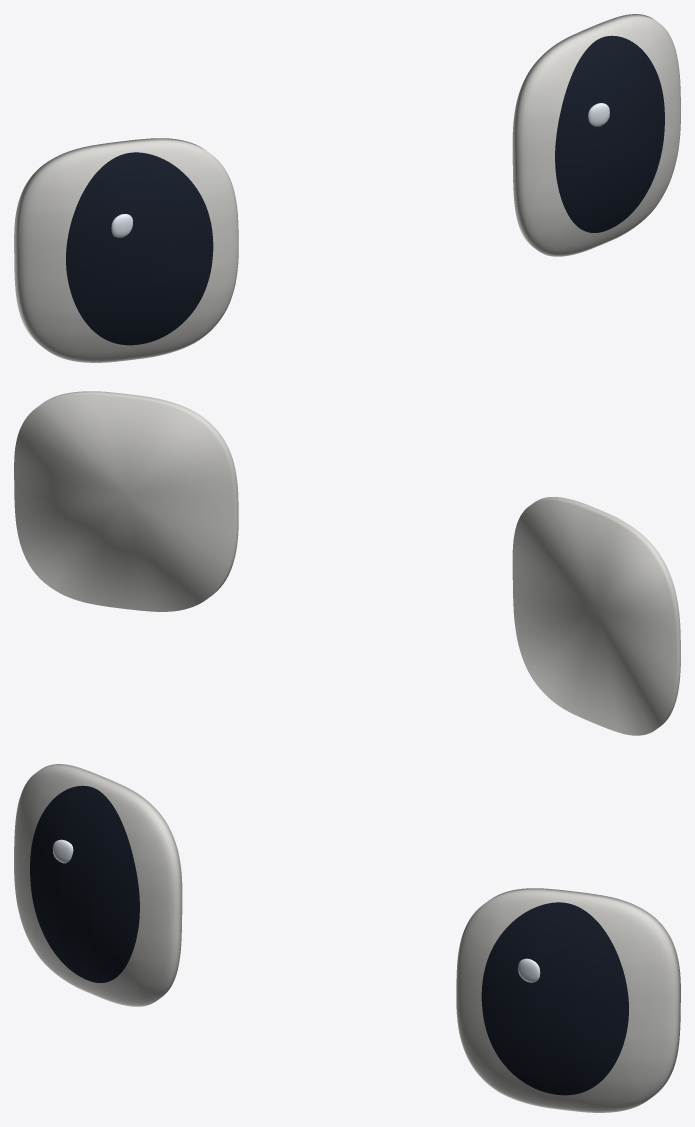
File: Feminine-eyes-square_white.glb
3 renders of one model, top to bottom at view 1: azimuth 30°, elevation 25°; view 2: azimuth 150°, elevation 25°; view 3: azimuth 330°, elevation 25°, orthographic.
Parts seen in each view (by area): view 1: Eye / pupil -1, Eye / square -1, Eye / pupil 1, Eye / square 1; view 2: Eye / square 1, Eye / square -1; view 3: Eye / pupil 1, Eye / square 1, Eye / pupil -1, Eye / square -1.
Part boxes in pixels (x1,y1,x2,y2): Eye / pupil -1: (66, 152, 213, 345); Eye / square -1: (14, 138, 238, 362); Eye / pupil 1: (555, 35, 664, 232); Eye / square 1: (512, 14, 680, 256); Eye / square 1: (14, 391, 238, 611); Eye / square -1: (512, 497, 680, 735); Eye / pupil 1: (481, 902, 628, 1095); Eye / square 1: (456, 888, 680, 1112); Eye / pupil -1: (30, 785, 139, 982); Eye / square -1: (14, 764, 182, 1006).
Bounding box in the file's own units: 0.422 × 0.13 × 0.045.
